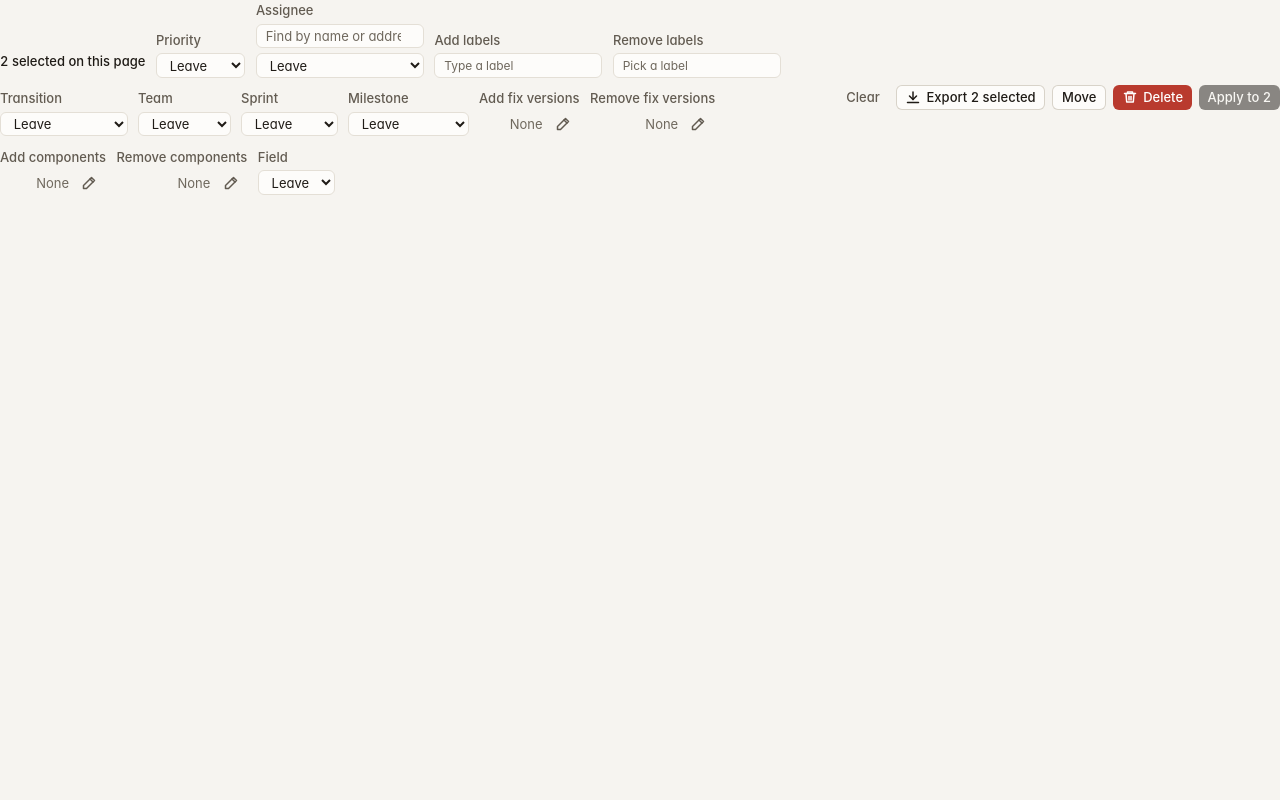
Test: BulkBar › lists what was refused and what a move renamed
The image size is (1280, 800).
Click the button "Move": (1079, 97) [1052,85,1106,110]
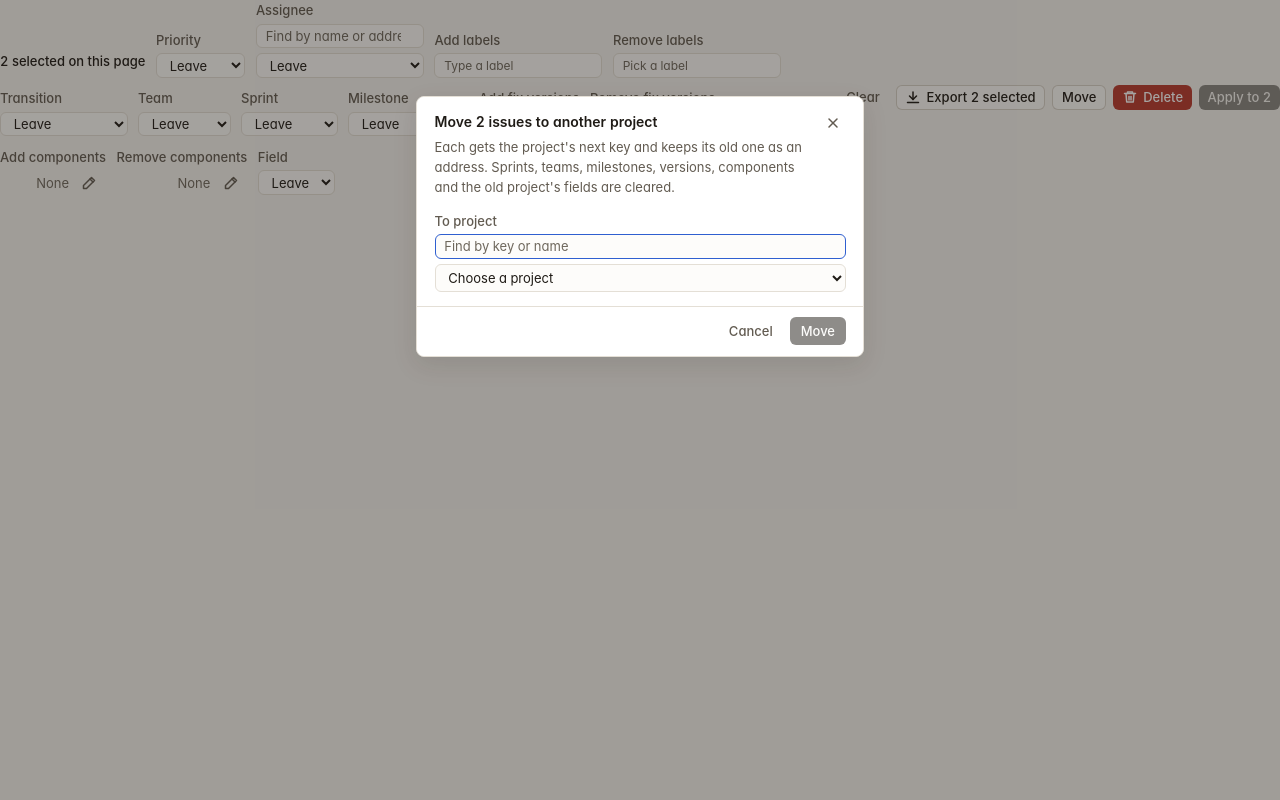
Select "Operations (OPS)" in the dropdown labelled "To project": (640, 278) [434,264,846,292]
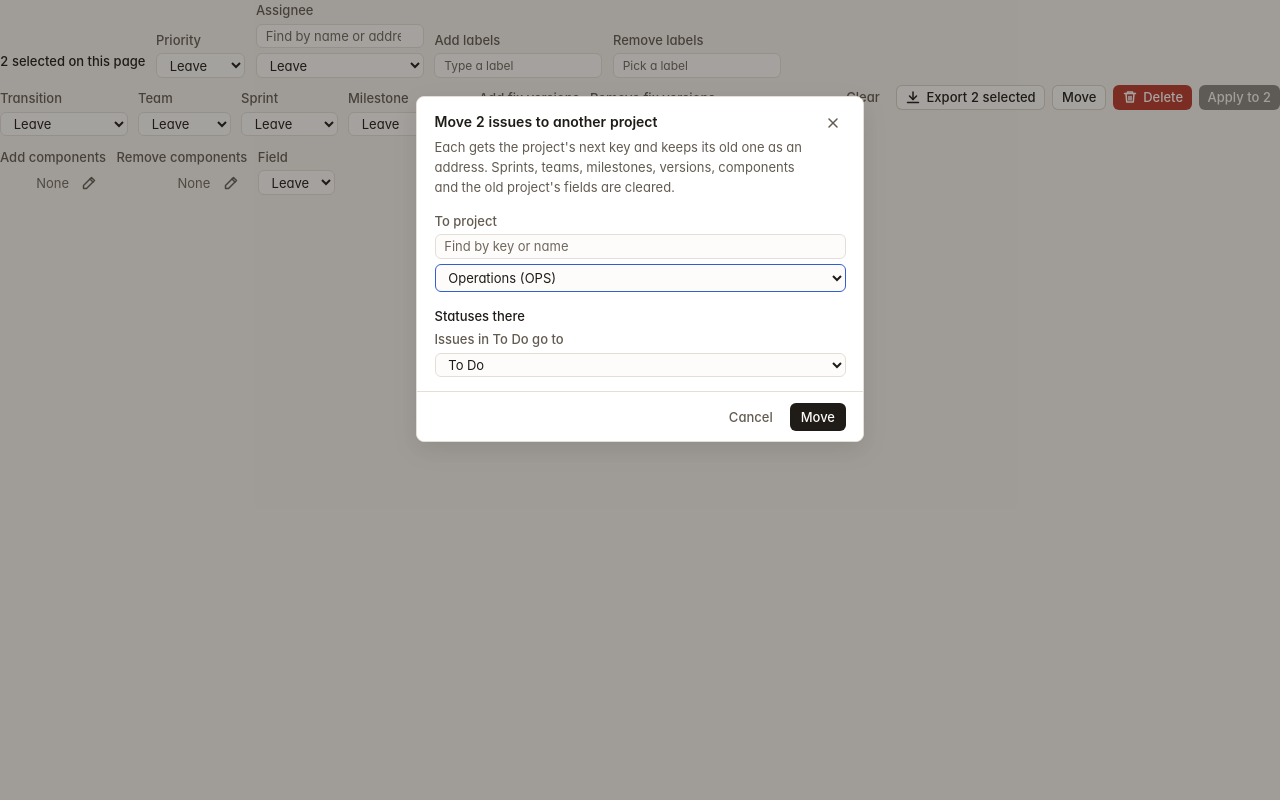
Click the button "Move": (818, 417) [790,403,846,431]
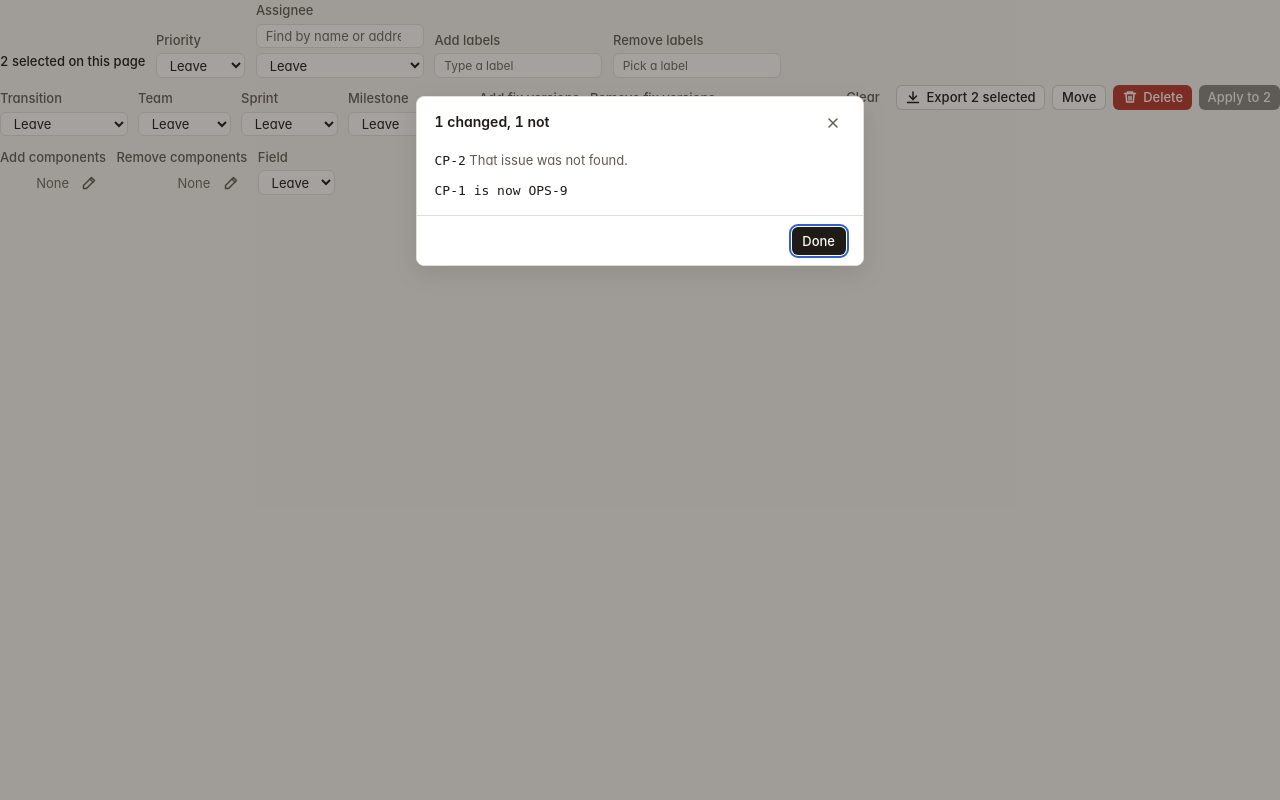
Expected: the list item "CP-2 That issue was not found." is shown, [434,152,628,168]
Expected: the list item "CP-1 is now OPS-9" is shown, [434,183,568,198]
